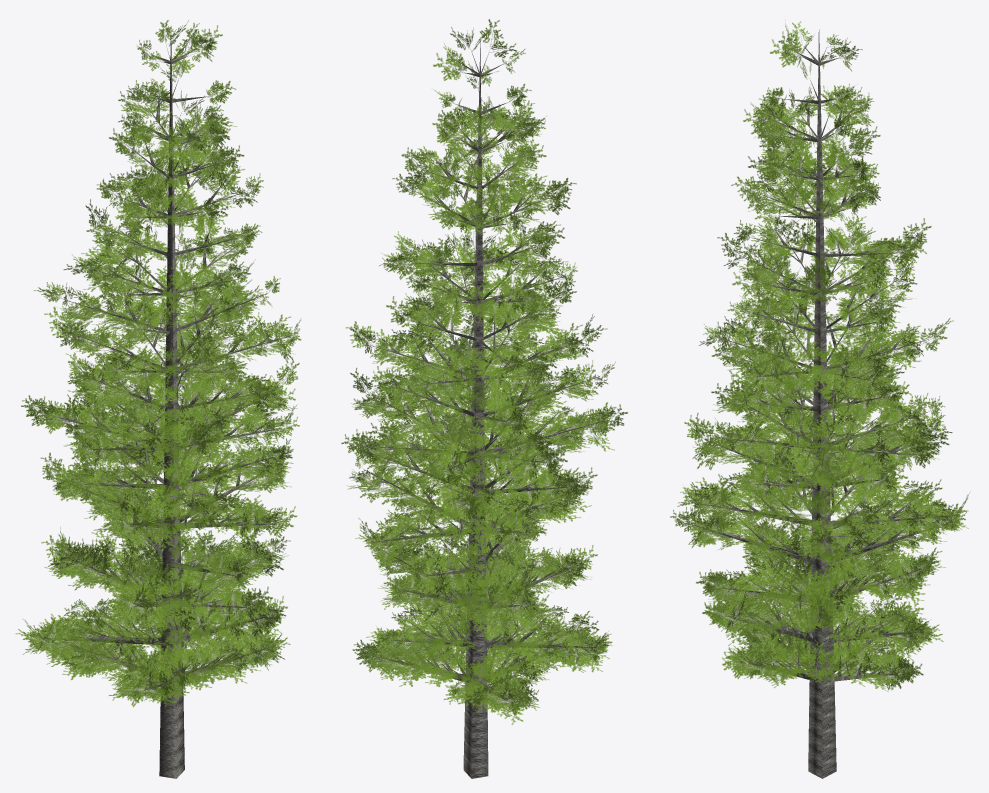
The model's file is pine_tree_-_ps1_low_poly.glb.
3 views of the same model, side by side, from view 1: azimuth 30°, elevation 25°; view 2: azimuth 150°, elevation 25°; view 3: azimuth 270°, elevation 25° (orthographic). The views are drawn at different scales.
Visible parts, largest first — view 1: Low Poly Evergreen Tree Tall 2; view 2: Low Poly Evergreen Tree Tall 2; view 3: Low Poly Evergreen Tree Tall 2.
Part boxes in pixels (x1,y1,x2,y2): Low Poly Evergreen Tree Tall 2: (15,20,301,778); Low Poly Evergreen Tree Tall 2: (341,19,627,778); Low Poly Evergreen Tree Tall 2: (670,21,969,778).
Size of the model in its own units: 21.05 by 53.25 by 19.85.
2 materials, 2 textured.
